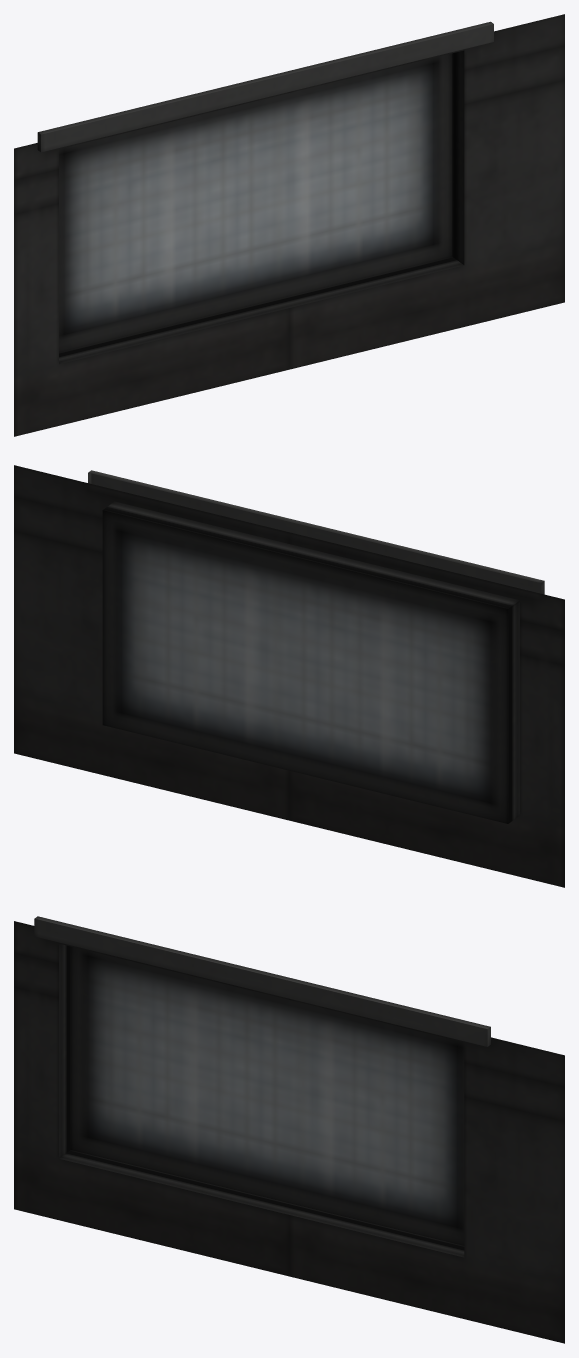
The model's file is B9_Market.FBX.
The picture shows the model from 3 angles, top to bottom: view 1: azimuth 30°, elevation 25°; view 2: azimuth 150°, elevation 25°; view 3: azimuth 330°, elevation 25°; orthographic projection.
Parts seen in each view (by area): view 1: B9_Market; view 2: B9_Market; view 3: B9_Market.
Boxes of the visible parts, box(x1,y1,x2,y2) form: B9_Market: box(14, 14, 564, 436); B9_Market: box(14, 465, 564, 887); B9_Market: box(14, 916, 564, 1343).
Bounding box in the file's own units: 8 × 4.15 × 0.3828.
